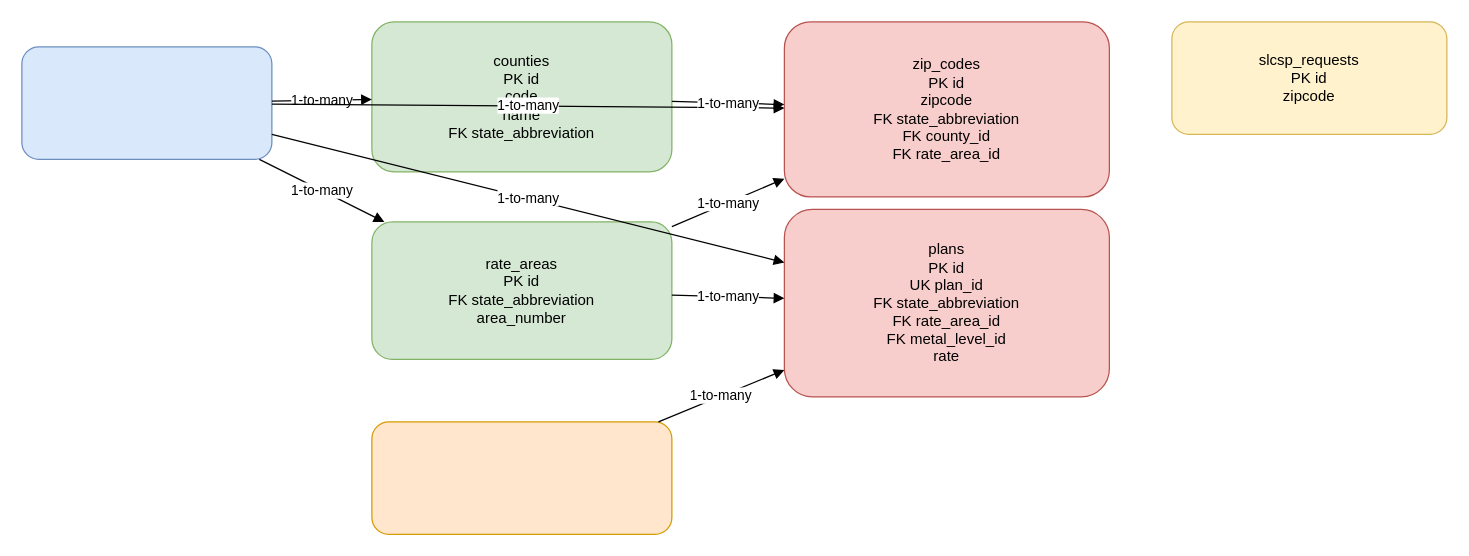
The diagram is 1469 pixels wide and 556 high, and some of its shapes have lost their labels. The shapes that lost their labels are listed below. From the top down, each one's centre as x and y in pixels, then its label:
(146,102): states PK abbreviation name
(521,477): metal_levels PK id UK name
